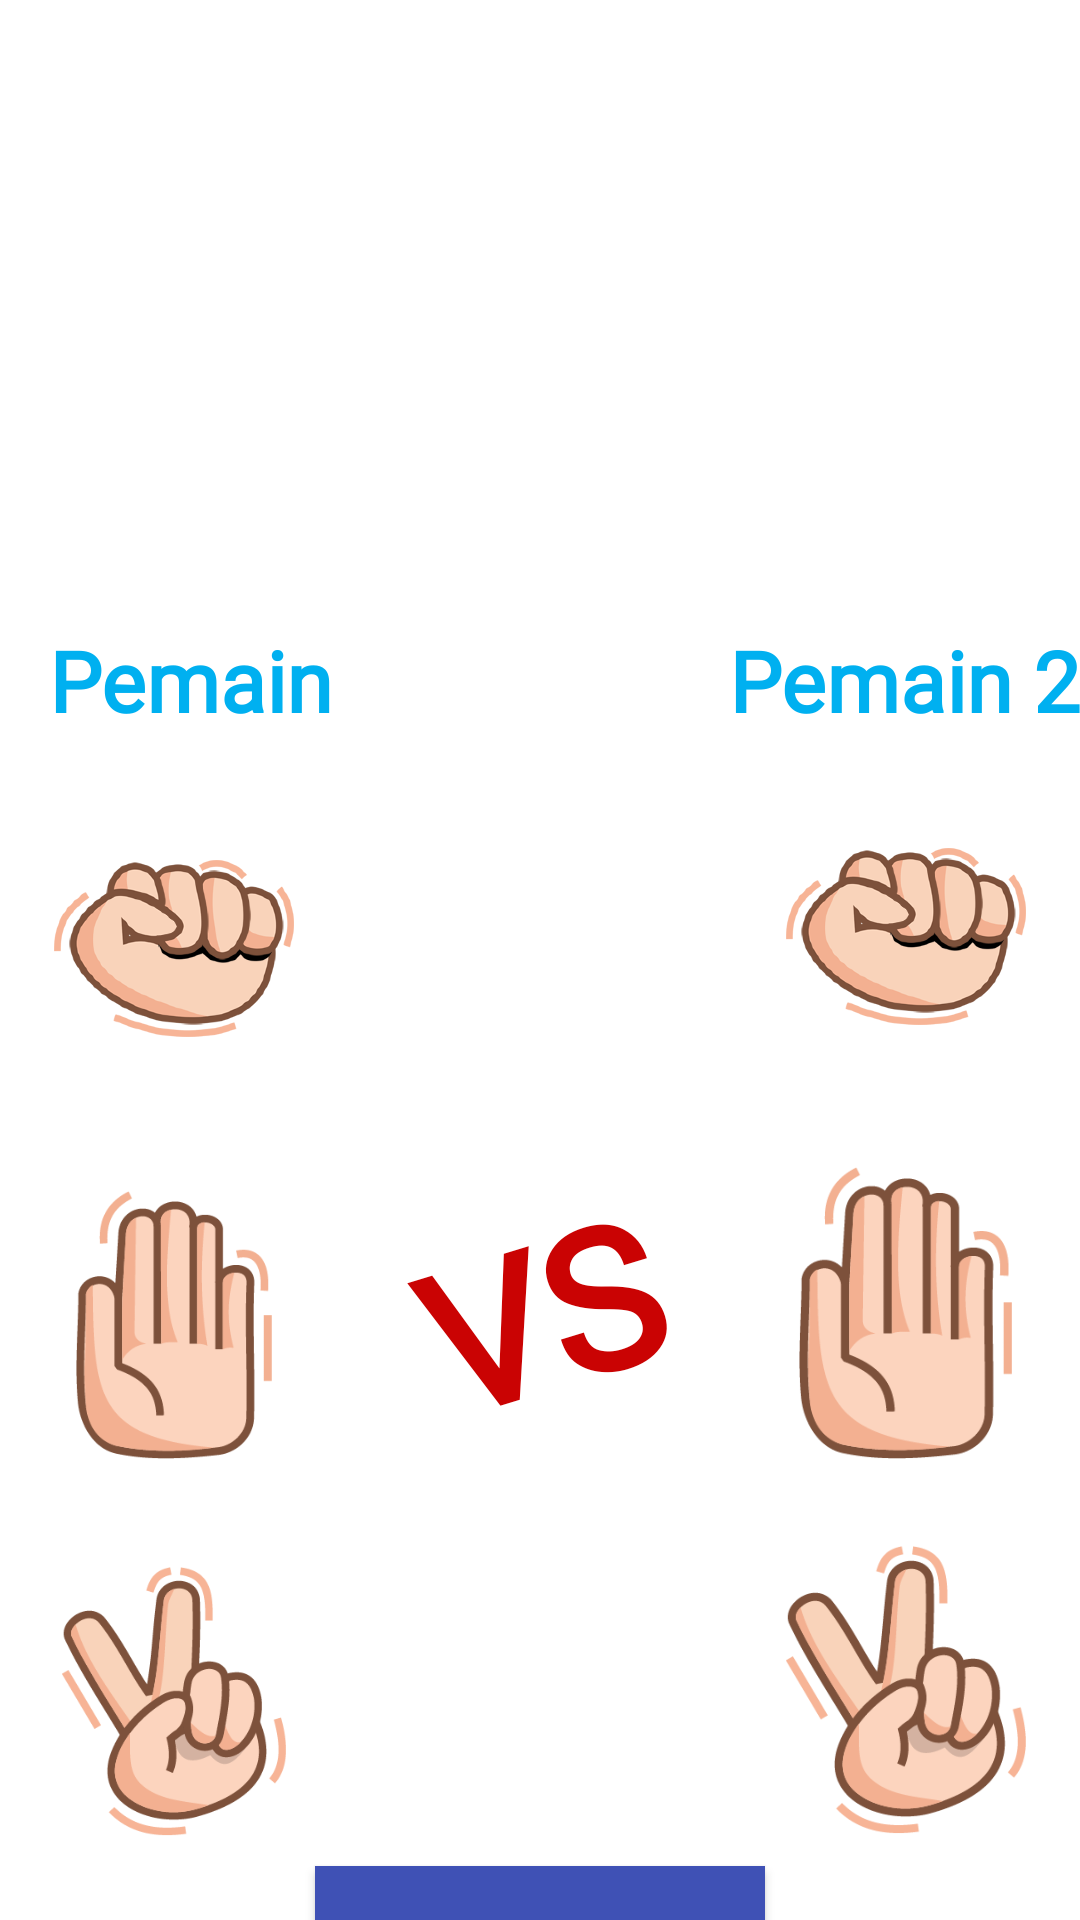

Icons on this 1080 x 1920 Android screen, each with its box as (x1, y1, x2, y2):
Batu: (786, 848, 1026, 1025), (54, 860, 294, 1037)
Gunting: (786, 1546, 1026, 1833), (62, 1567, 286, 1835)
Kertas: (799, 1168, 1012, 1459), (76, 1192, 272, 1459)
